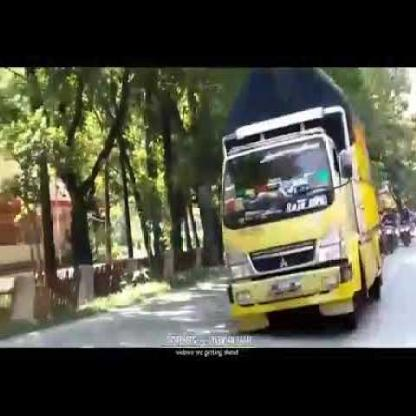truck: (200, 103, 388, 332)
